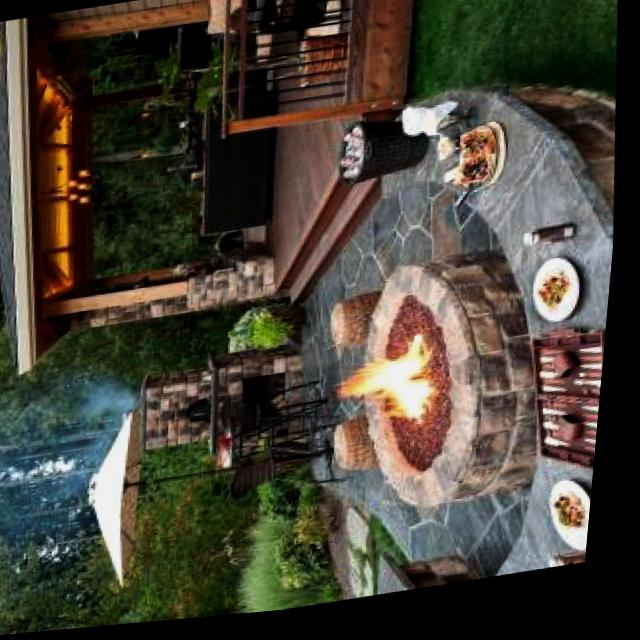Fire: (337, 360, 446, 433)
